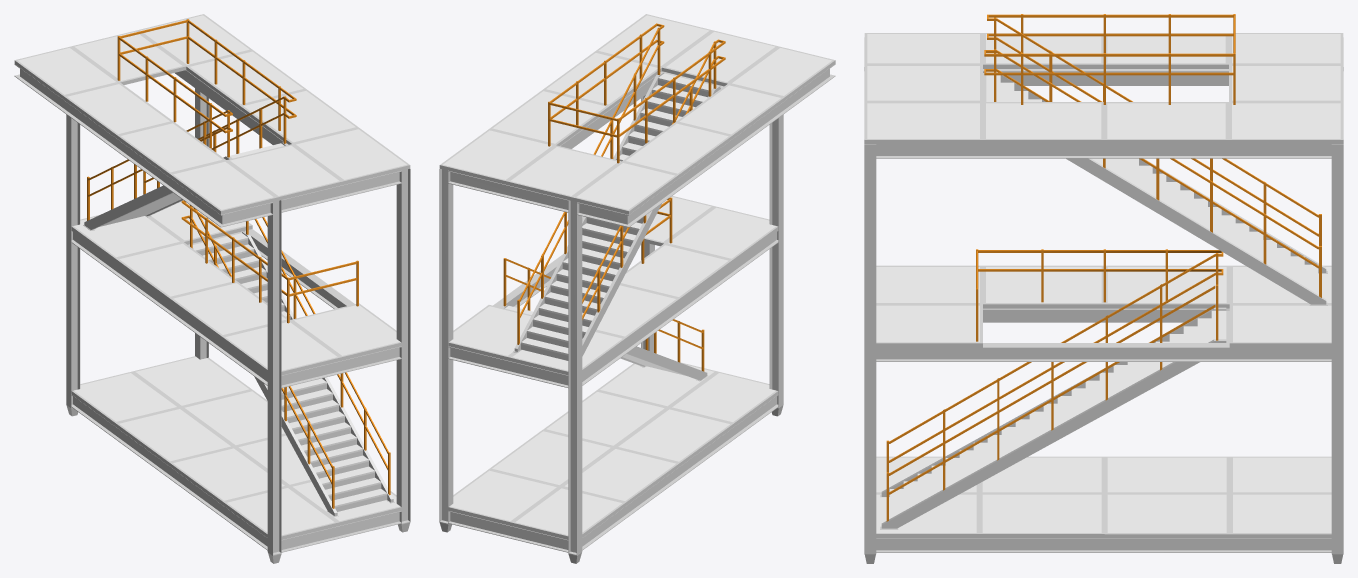
Rendered from SM_H_Building_Tide_DeepJail_04_Shelf_04a_ATLAS.fbx.
The picture shows the model from 3 angles, left to right: view 1: azimuth 30°, elevation 25°; view 2: azimuth 150°, elevation 25°; view 3: azimuth 270°, elevation 25°; orthographic projection. The views are drawn at different scales.
Visible parts, largest first — view 1: SM_H_Building_Tide_DeepJail_04_Shelf_04a_ATLAS; view 2: SM_H_Building_Tide_DeepJail_04_Shelf_04a_ATLAS; view 3: SM_H_Building_Tide_DeepJail_04_Shelf_04a_ATLAS.
Part boxes in pixels (bbox=[...]): SM_H_Building_Tide_DeepJail_04_Shelf_04a_ATLAS: bbox=[14, 14, 410, 563]; SM_H_Building_Tide_DeepJail_04_Shelf_04a_ATLAS: bbox=[439, 14, 835, 563]; SM_H_Building_Tide_DeepJail_04_Shelf_04a_ATLAS: bbox=[864, 14, 1343, 563].
Size of the model in its own units: 427 by 806 by 883.
